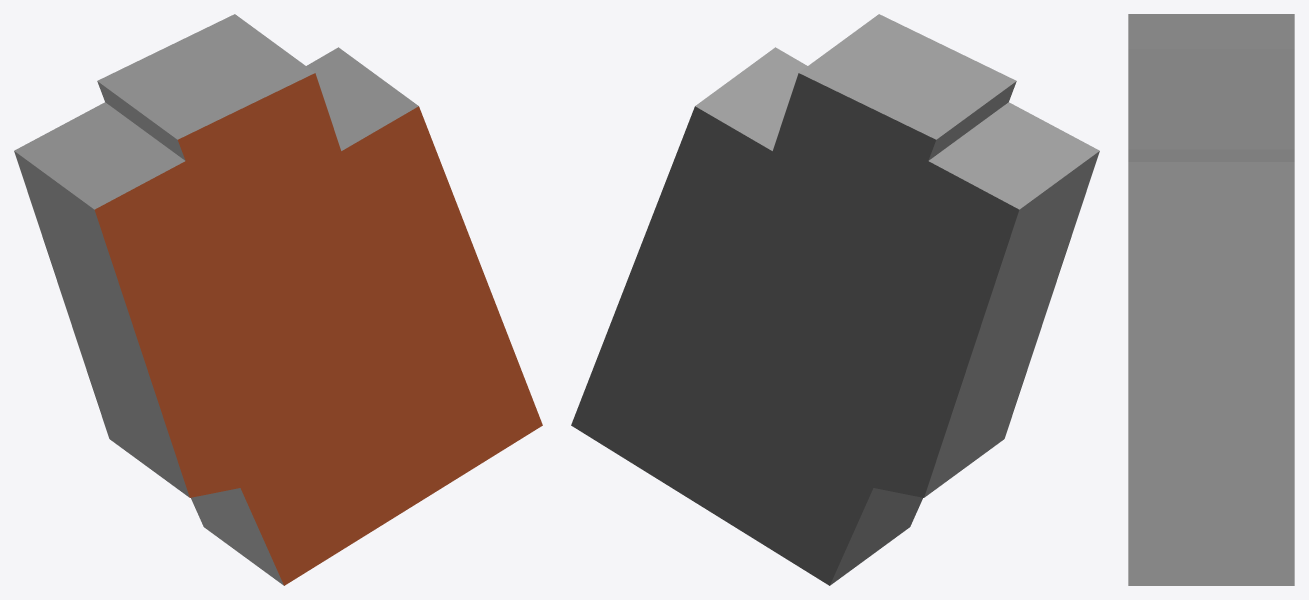
File: construction_6483_assumed_A_Casa_h6m.obj
3 views of the same model, side by side, from view 1: azimuth 30°, elevation 25°; view 2: azimuth 150°, elevation 25°; view 3: azimuth 270°, elevation 25° (orthographic). The views are drawn at different scales.
Parts seen in each view (by area): view 1: construction_6483_assumed_A_Casa; view 2: construction_6483_assumed_A_Casa; view 3: construction_6483_assumed_A_Casa.
Boxes of the visible parts, x1,y1,x2,y2 form: construction_6483_assumed_A_Casa: (14, 14, 542, 585); construction_6483_assumed_A_Casa: (571, 14, 1099, 585); construction_6483_assumed_A_Casa: (1128, 14, 1294, 585).
Size of the model in its own units: 19.3 by 20.79 by 6.
